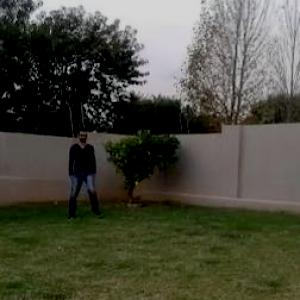follow: (73, 124, 95, 215)
